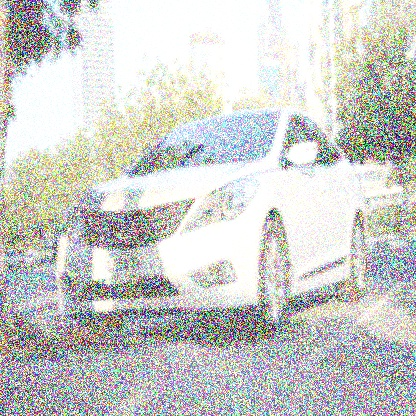Vehicle: (52, 105, 376, 342)
